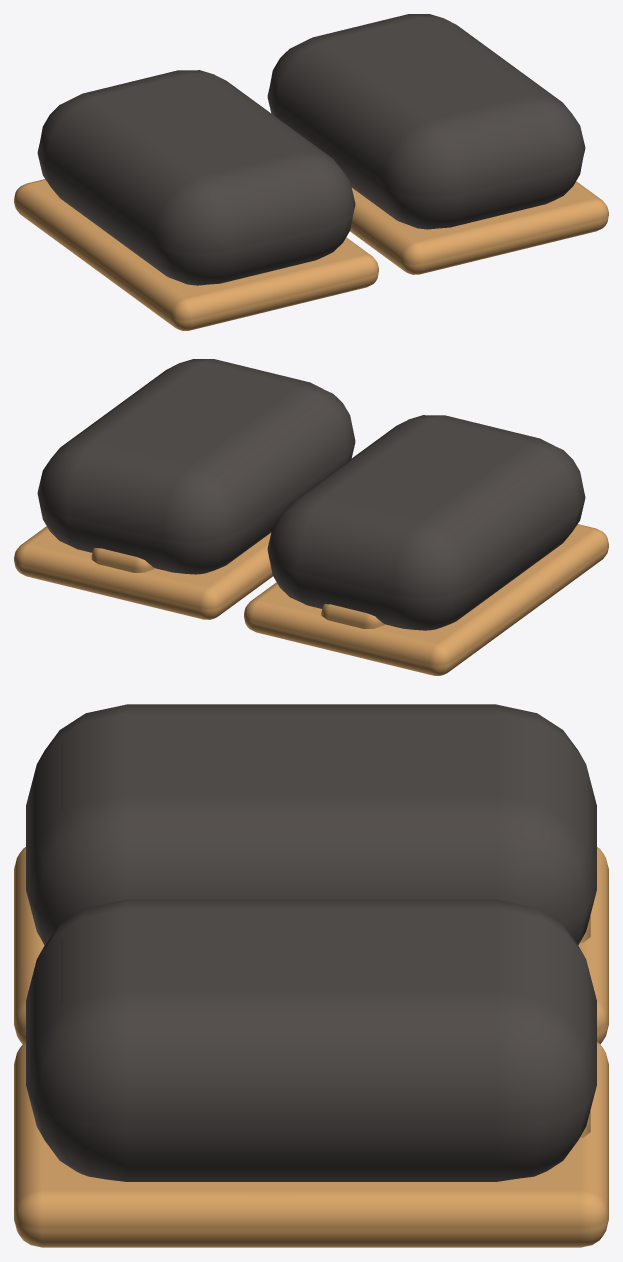
The model's file is basic_pumps.glb.
3 renders of one model, top to bottom at view 1: azimuth 30°, elevation 25°; view 2: azimuth 150°, elevation 25°; view 3: azimuth 270°, elevation 25°, orthographic. The views are drawn at different scales.
Parts seen in each view (by area): view 1: basic_pumps_LegL, basic_pumps_LegR; view 2: basic_pumps_LegL, basic_pumps_LegR; view 3: basic_pumps_LegR, basic_pumps_LegL.
Part boxes in pixels (x1=…): basic_pumps_LegL: x1=14, y1=70, x2=378, y2=330; basic_pumps_LegR: x1=267, y1=14, x2=608, y2=274; basic_pumps_LegL: x1=244, y1=415, x2=608, y2=675; basic_pumps_LegR: x1=14, y1=359, x2=355, y2=619; basic_pumps_LegR: x1=14, y1=899, x2=608, y2=1247; basic_pumps_LegL: x1=14, y1=704, x2=608, y2=1044.
Size of the model in its own units: 0.36 by 0.1025 by 0.245.
